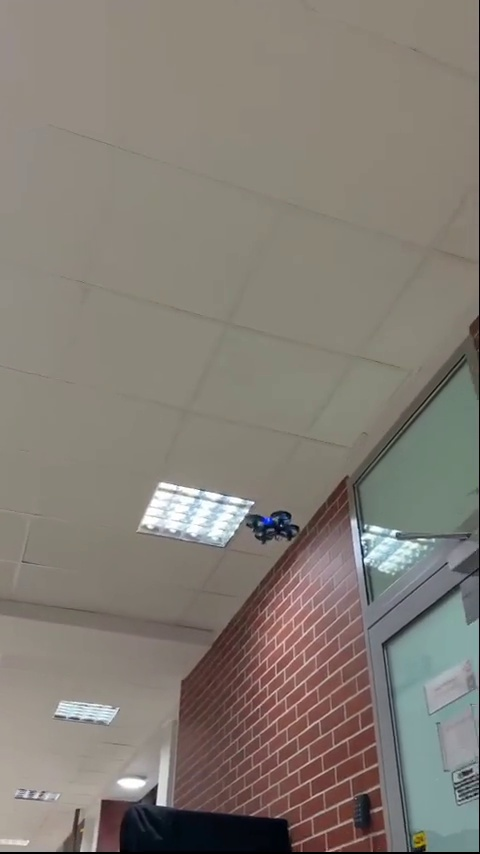drone: (245, 508, 295, 547)
